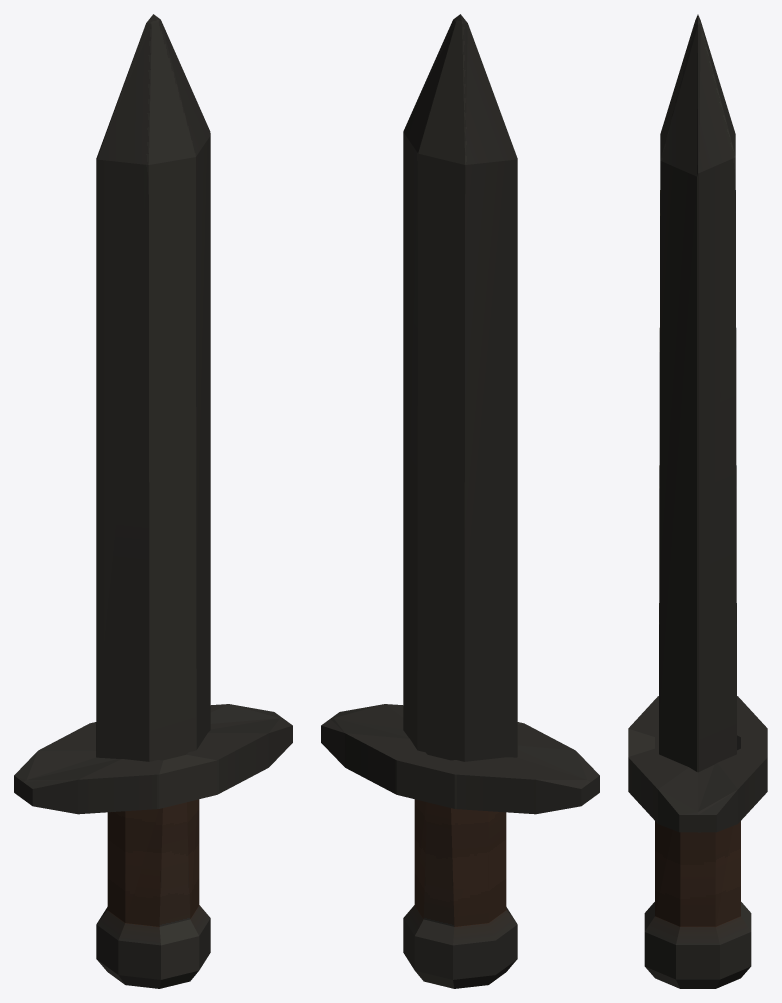
The model's file is ashfell_arming_sword.gltf.
The picture shows the model from 3 angles, left to right: view 1: azimuth 30°, elevation 25°; view 2: azimuth 150°, elevation 25°; view 3: azimuth 270°, elevation 25°; orthographic projection.
Visible parts, largest first — view 1: AshfellArmingSword; view 2: AshfellArmingSword; view 3: AshfellArmingSword.
Boxes of the visible parts, x1,y1,x2,y2 form: AshfellArmingSword: (14, 14, 292, 988); AshfellArmingSword: (321, 14, 599, 988); AshfellArmingSword: (628, 14, 767, 988).
Size of the model in its own units: 0.2994 by 1.05 by 0.1389.
Materials: 1 (1 with a texture image).
